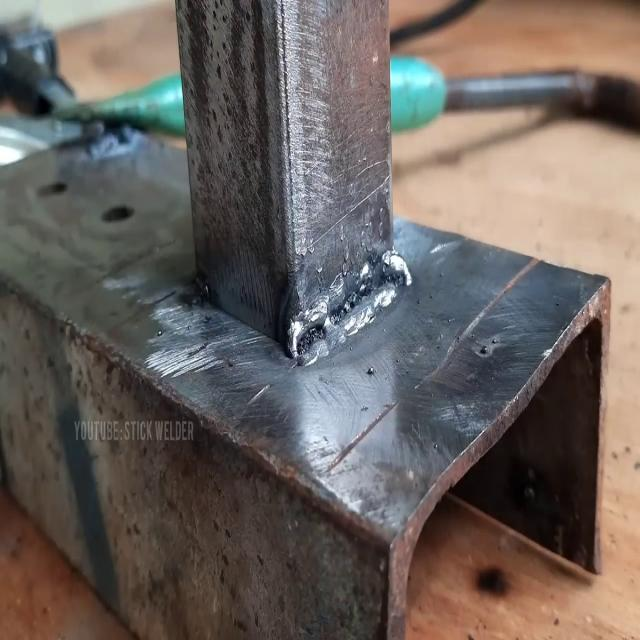Bad Welding: (294, 258, 409, 363)
